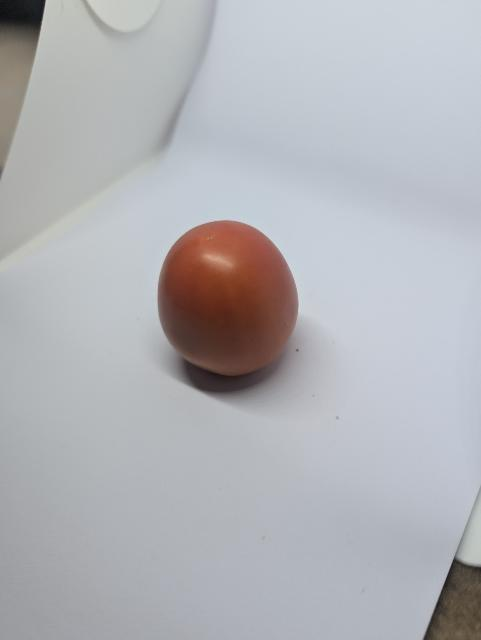red: (142, 211, 322, 397)
